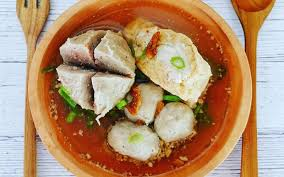bakso: (41, 19, 235, 167)
